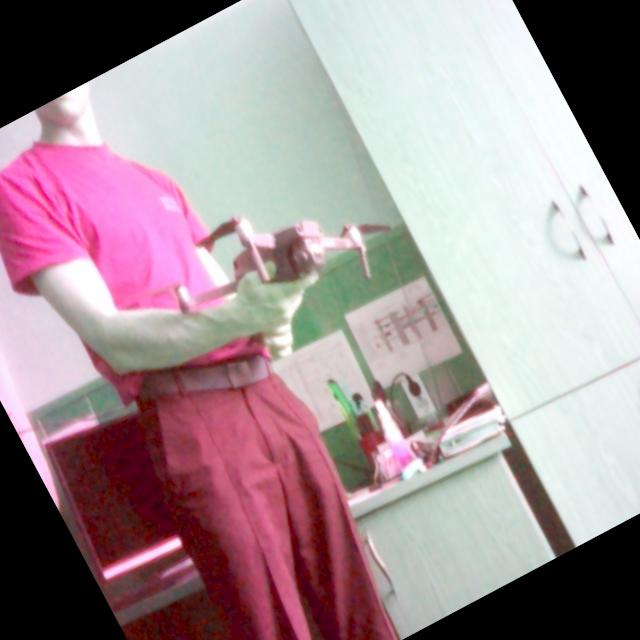drone: (121, 127, 432, 395)
